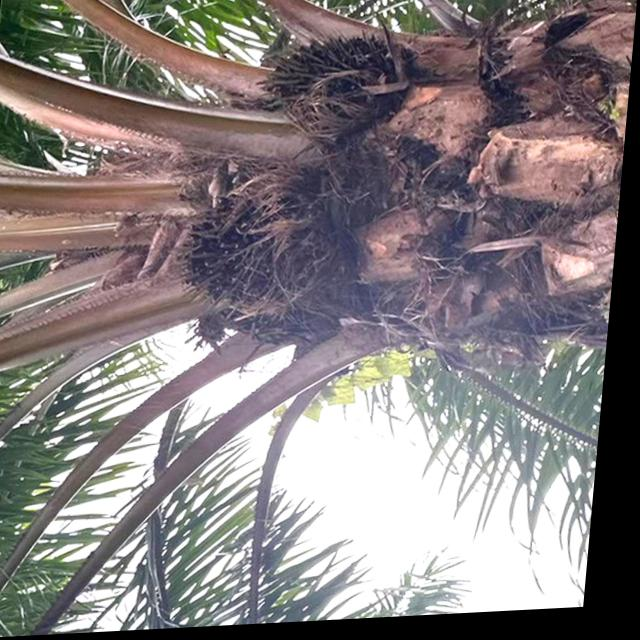ripe: (173, 173, 348, 360), (247, 21, 422, 151)
